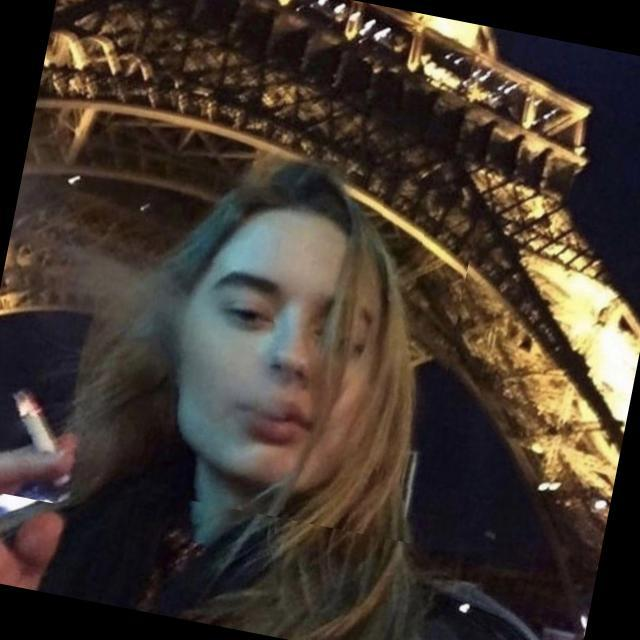cigarette: (0, 369, 91, 506)
